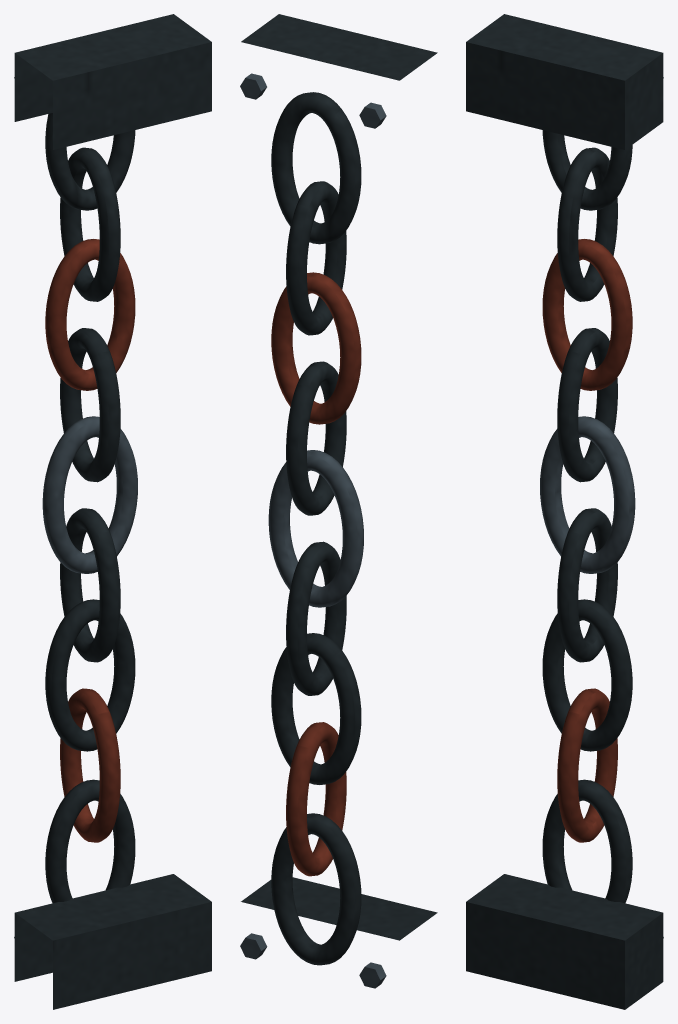
File: shutter_chain_repaired.glb
3 views of the same model, side by side, from view 1: azimuth 30°, elevation 25°; view 2: azimuth 150°, elevation 25°; view 3: azimuth 330°, elevation 25° (orthographic).
Visible parts, largest first — view 1: shutter_chain_repaired_Mesh; view 2: shutter_chain_repaired_Mesh; view 3: shutter_chain_repaired_Mesh.
Part boxes in pixels (bbox=[...]): shutter_chain_repaired_Mesh: bbox=[14, 14, 211, 1009]; shutter_chain_repaired_Mesh: bbox=[240, 14, 437, 988]; shutter_chain_repaired_Mesh: bbox=[466, 14, 663, 1009].
Size of the model in its own units: 0.12 by 0.67 by 0.088.
3 materials, 3 textured.
